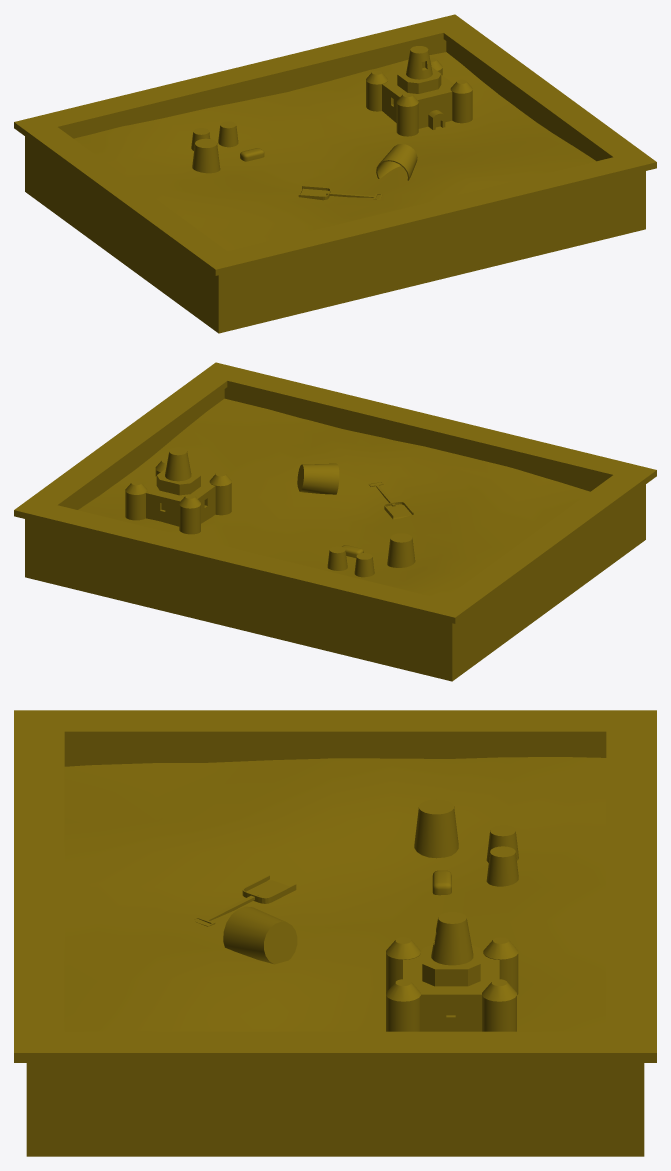
The model's file is sandbox.obj.
3 views of the same model, one above another, from view 1: azimuth 30°, elevation 25°; view 2: azimuth 150°, elevation 25°; view 3: azimuth 270°, elevation 25° (orthographic). The views are drawn at different scales.
Parts seen in each view (by area): view 1: PlayGround_01; view 2: PlayGround_01; view 3: PlayGround_01.
Part boxes in pixels (<box>): PlayGround_01: <box>14,14,656,333</box>; PlayGround_01: <box>14,362,656,681</box>; PlayGround_01: <box>14,710,656,1156</box>.
Size of the model in its own units: 1543 by 349 by 1223.
